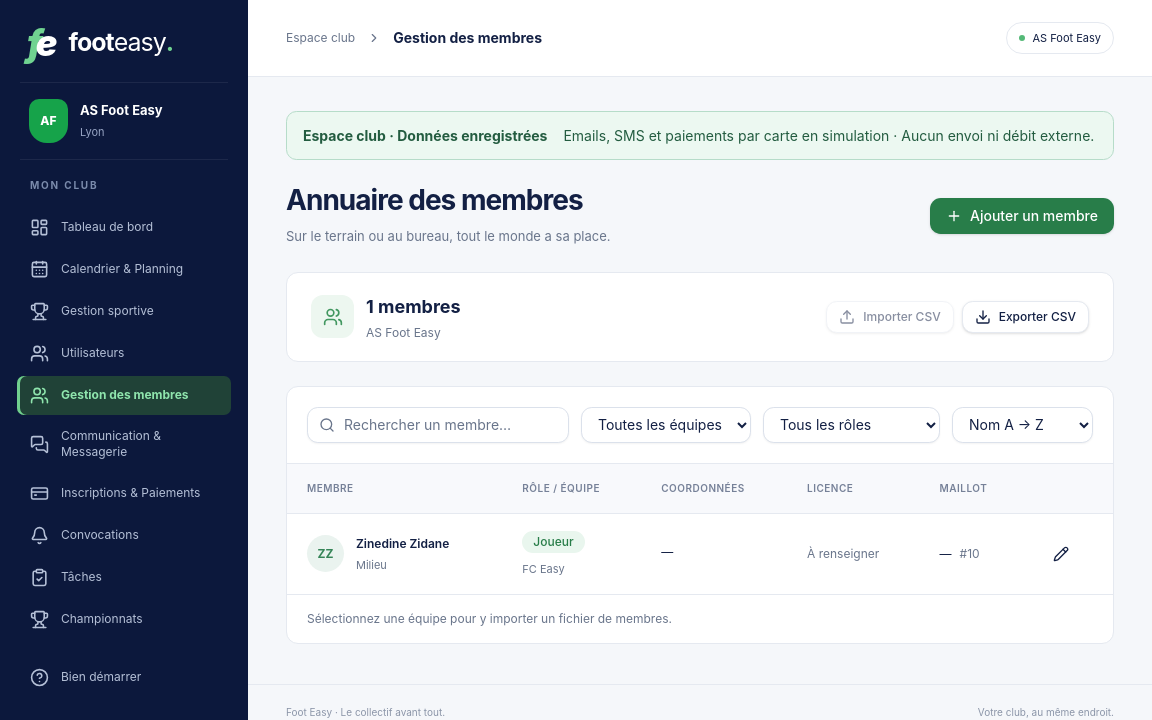
Test: Club management workflows › edits a member's licence and jersey size and refreshes the directory
The width and height of the screenshot is (1152, 720).
Click the button named "Modifier Zinedine Zidane": (1061, 554) x1=1043 y1=536 x2=1079 y2=572
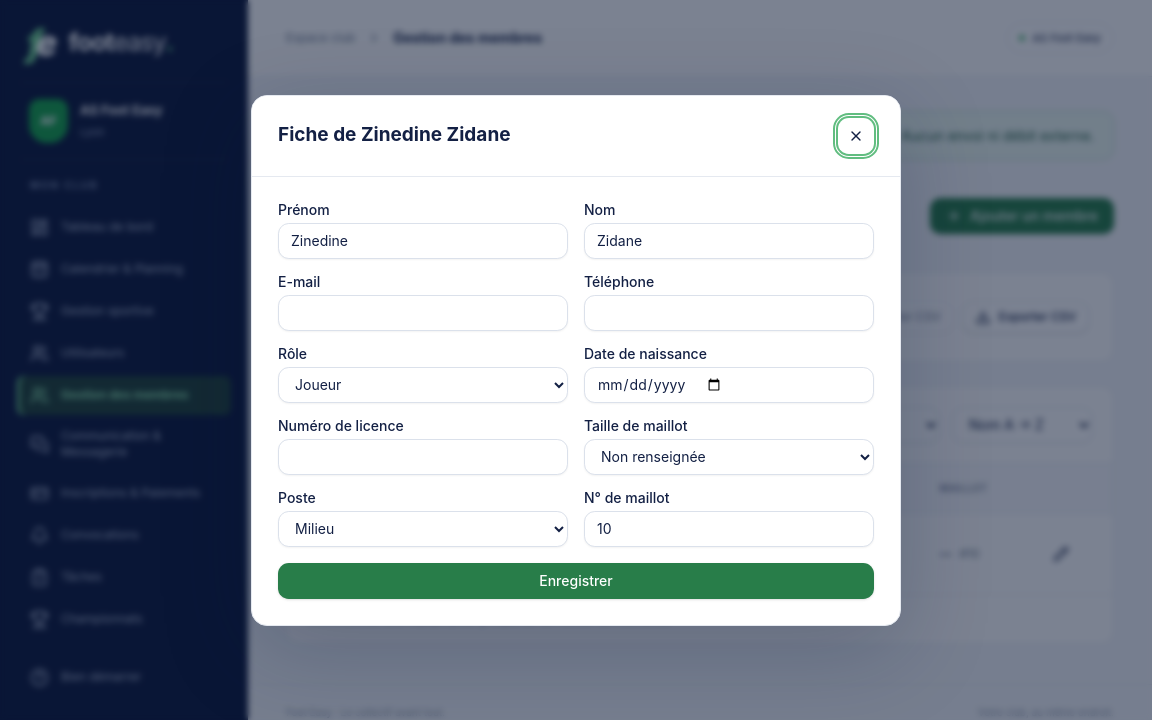
In the field labelled "Numéro de licence": (423, 456) x1=278 y1=438 x2=568 y2=474, type "FFF-123"
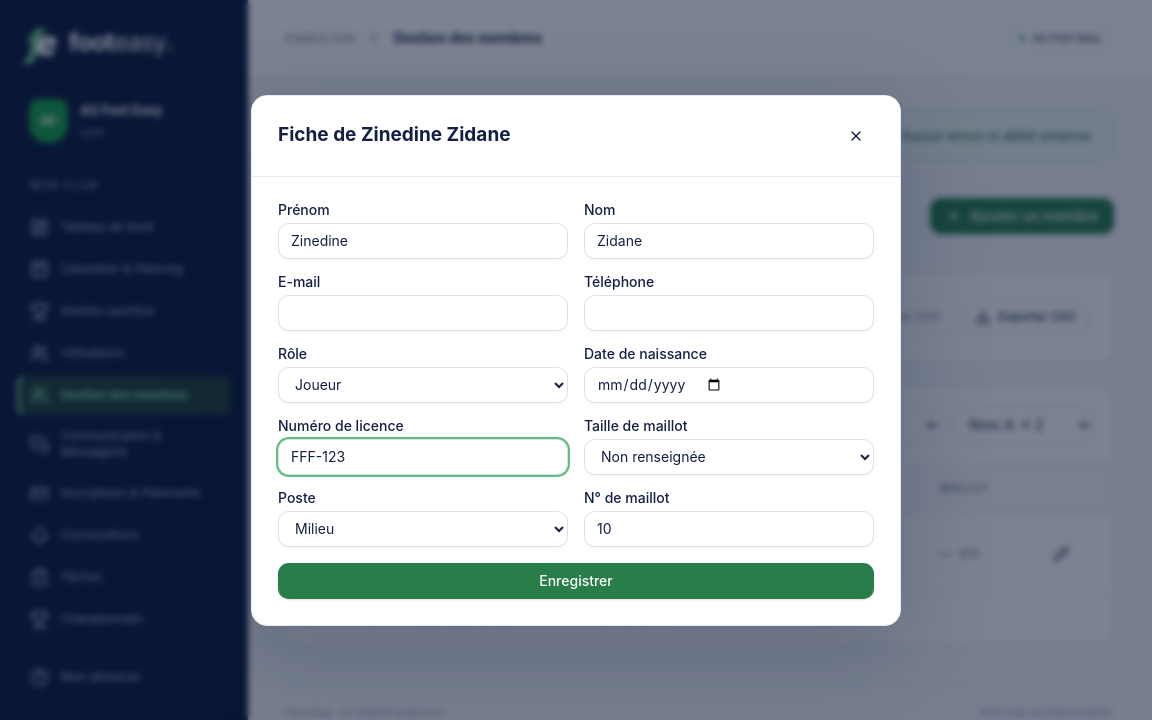
Select "L" in the dropdown labelled "Taille de maillot": (729, 456) x1=584 y1=438 x2=874 y2=474
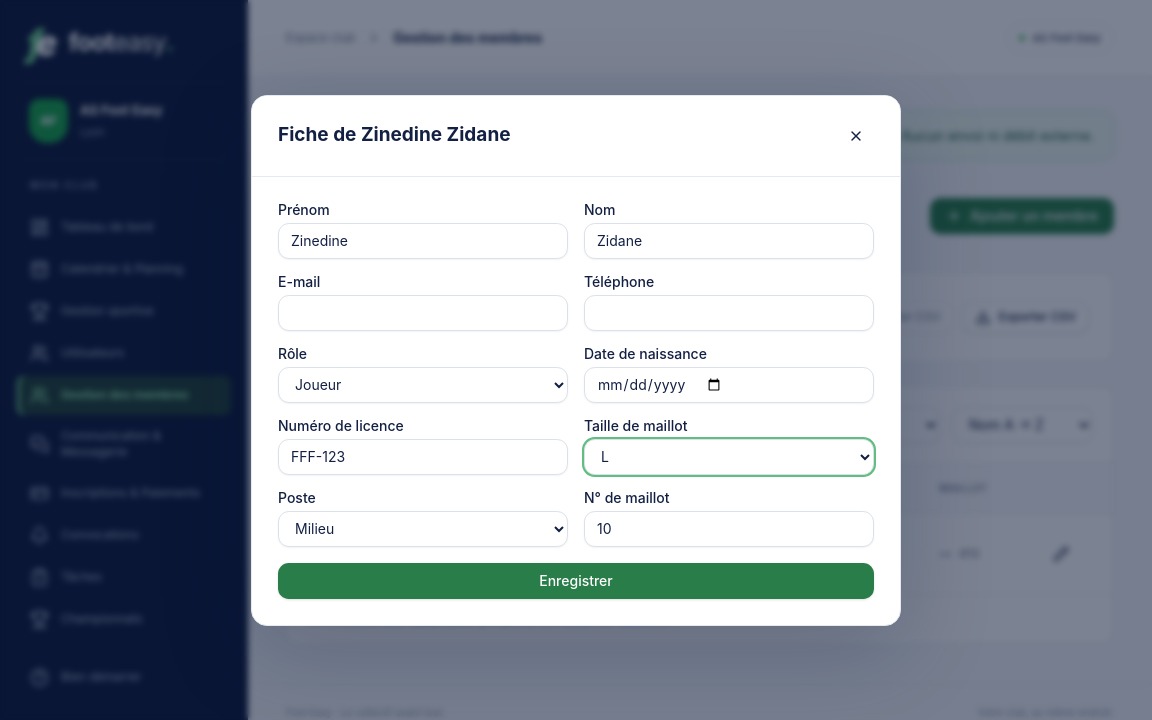
Click the button "Enregistrer": (576, 580) x1=278 y1=562 x2=874 y2=598
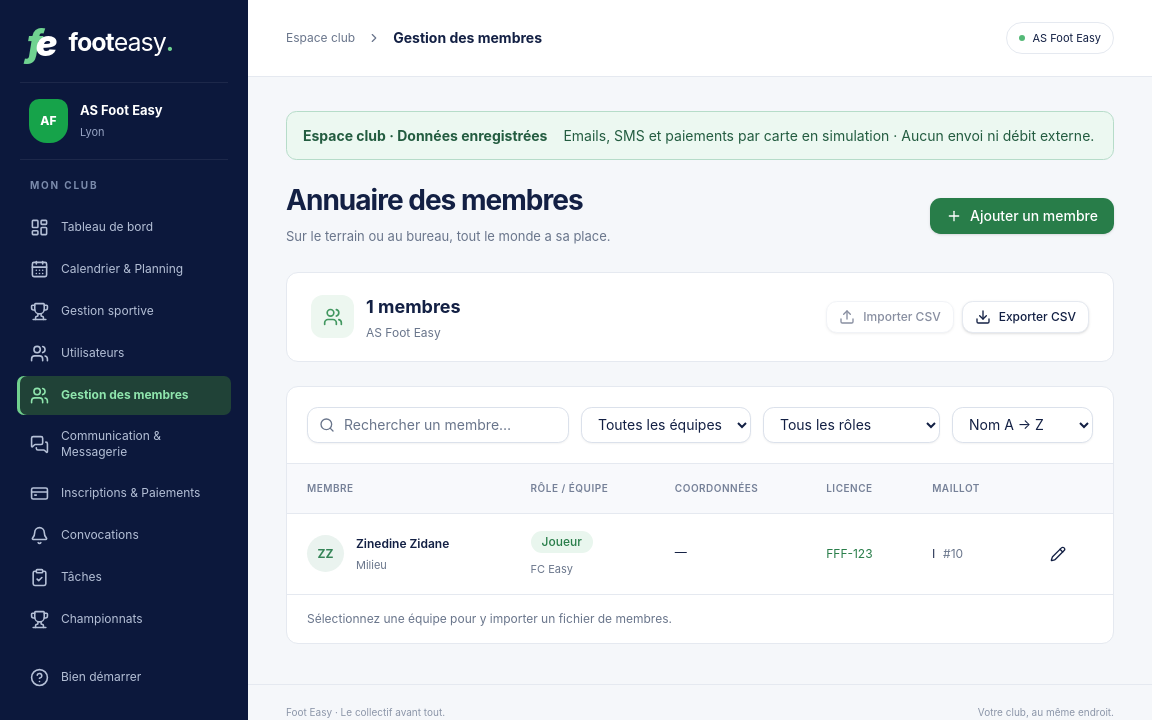
Check: the text "FFF-123" is shown, box x1=826 y1=546 x2=873 y2=561
